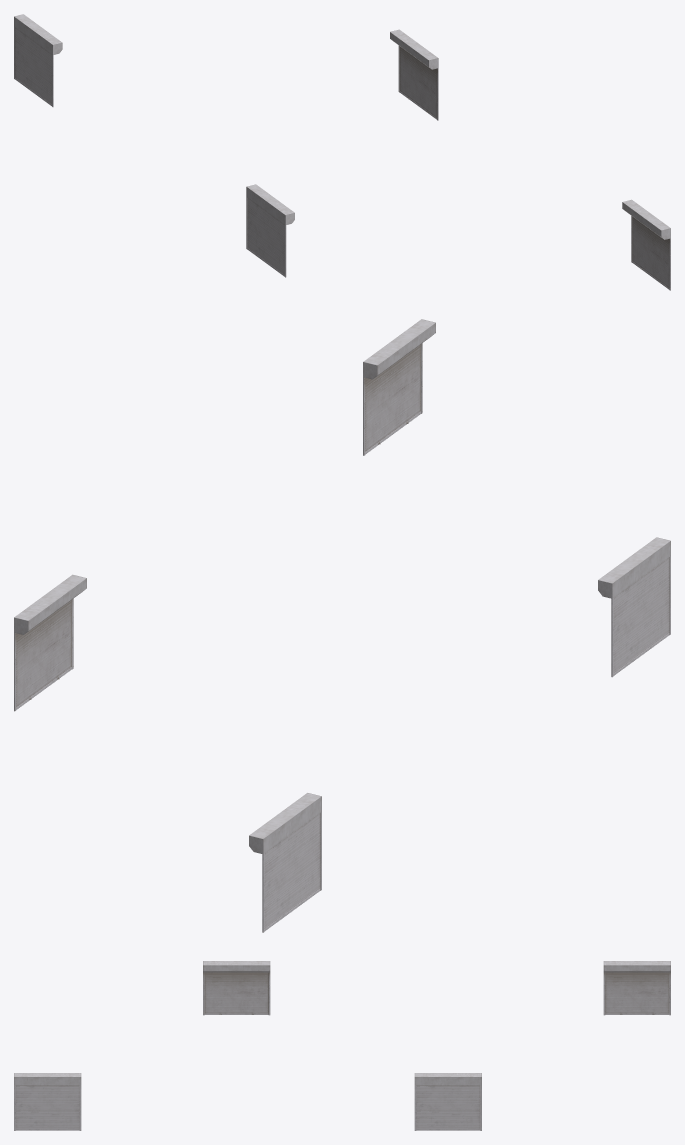
The model's file is SM_PH_kepenk_pencere.fbx.
3 renders of one model, top to bottom at view 1: azimuth 30°, elevation 25°; view 2: azimuth 150°, elevation 25°; view 3: azimuth 270°, elevation 25°, orthographic. The views are drawn at different scales.
Visible parts, largest first — view 1: SM_PH_kepenk_pencere; view 2: SM_PH_kepenk_pencere; view 3: SM_PH_kepenk_pencere.
Boxes of the visible parts, x1,y1,x2,y2 form: SM_PH_kepenk_pencere: (14,14,670,290); SM_PH_kepenk_pencere: (14,319,670,932); SM_PH_kepenk_pencere: (14,961,670,1130).
Bounding box in the file's own units: 8.56 × 20.5 × 1.85.
1 material, 1 textured.
